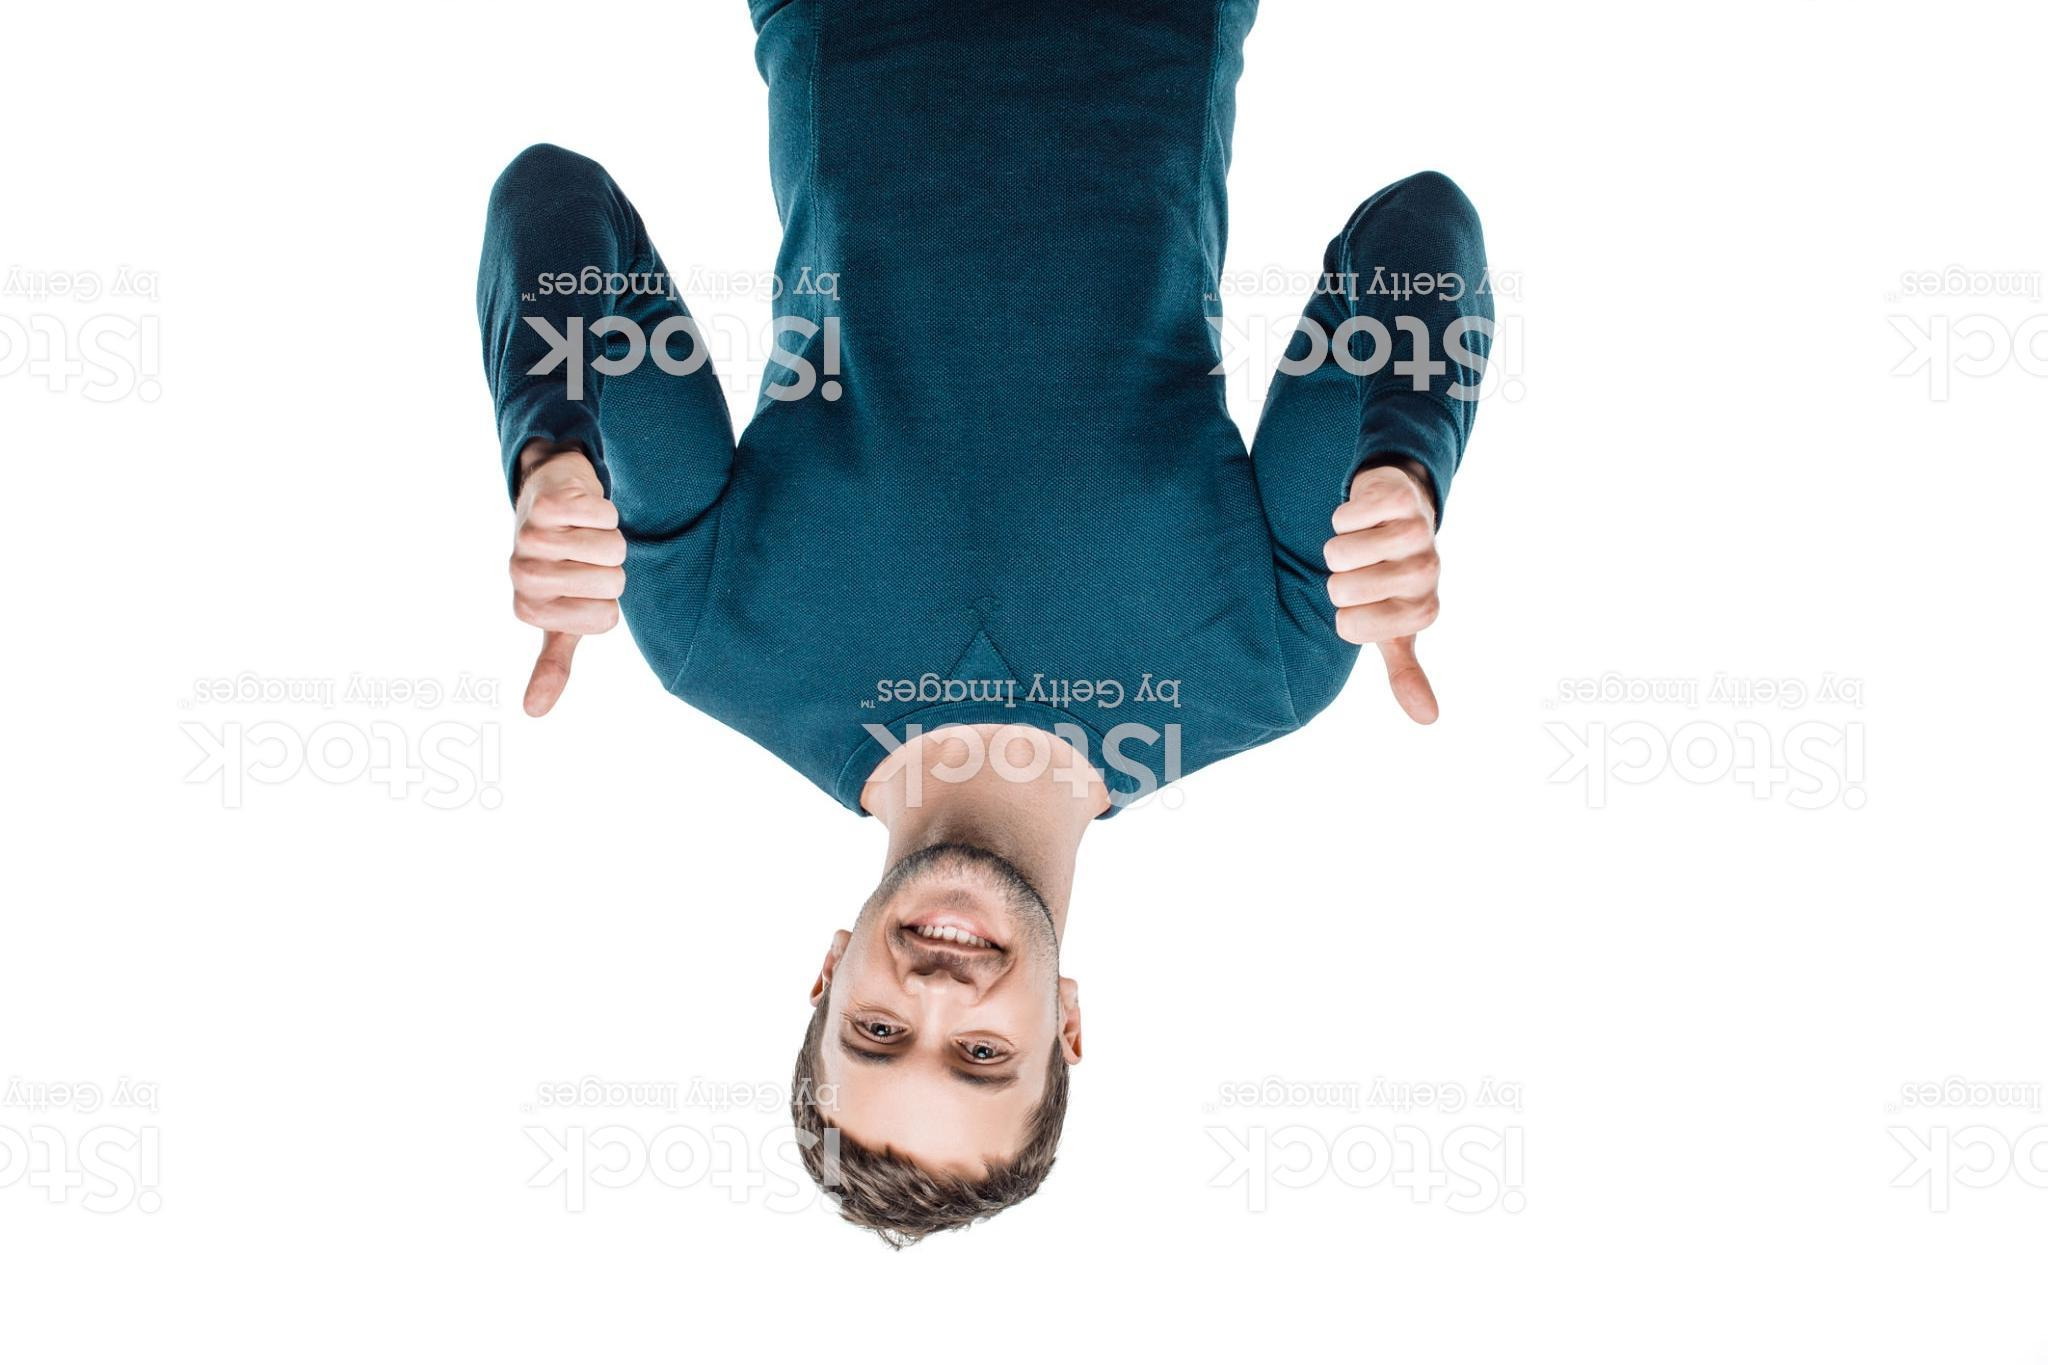thumbsdown: (1319, 471, 1447, 730), (507, 465, 632, 721)
